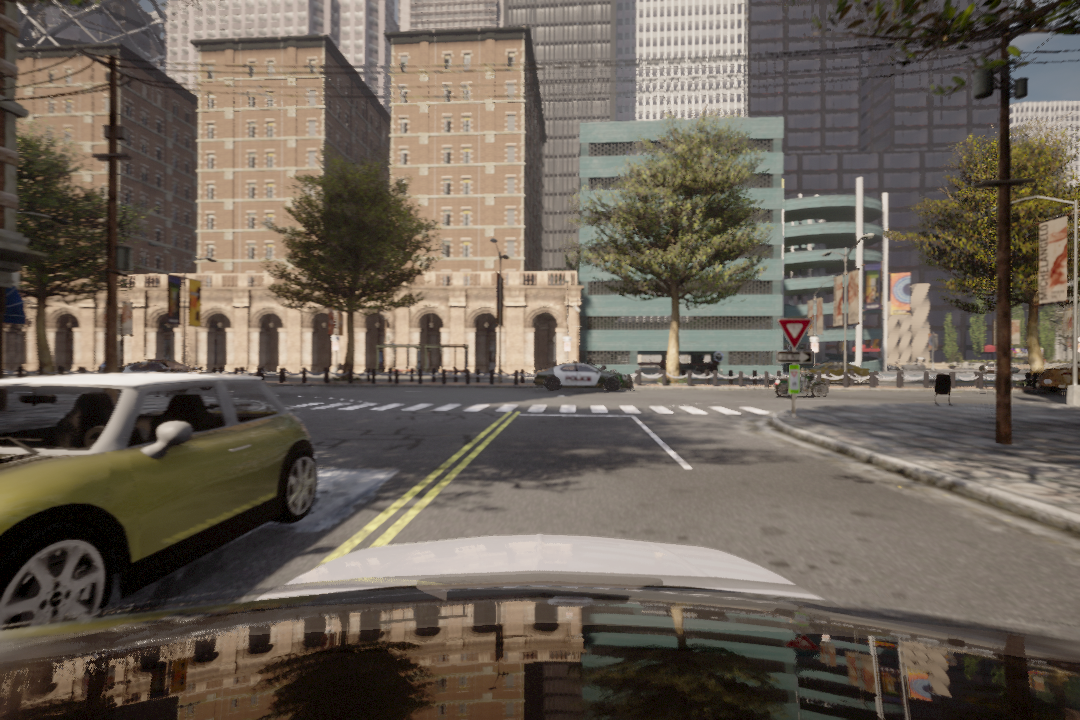walkside: (279, 399, 777, 421)
